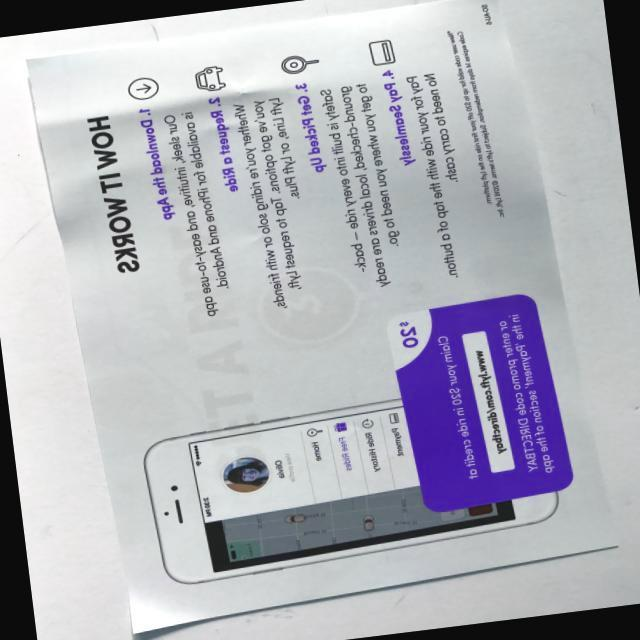paper: (16, 0, 628, 640)
